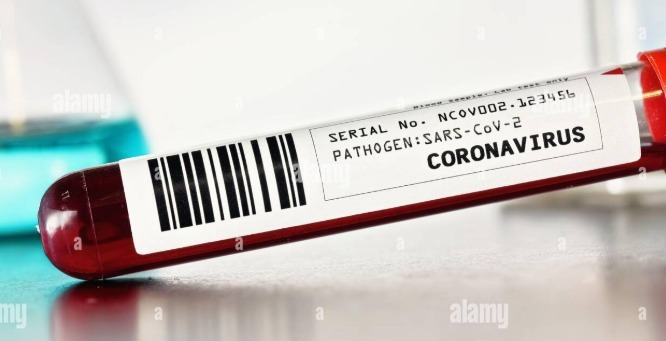barcode: (133, 162, 533, 247)
